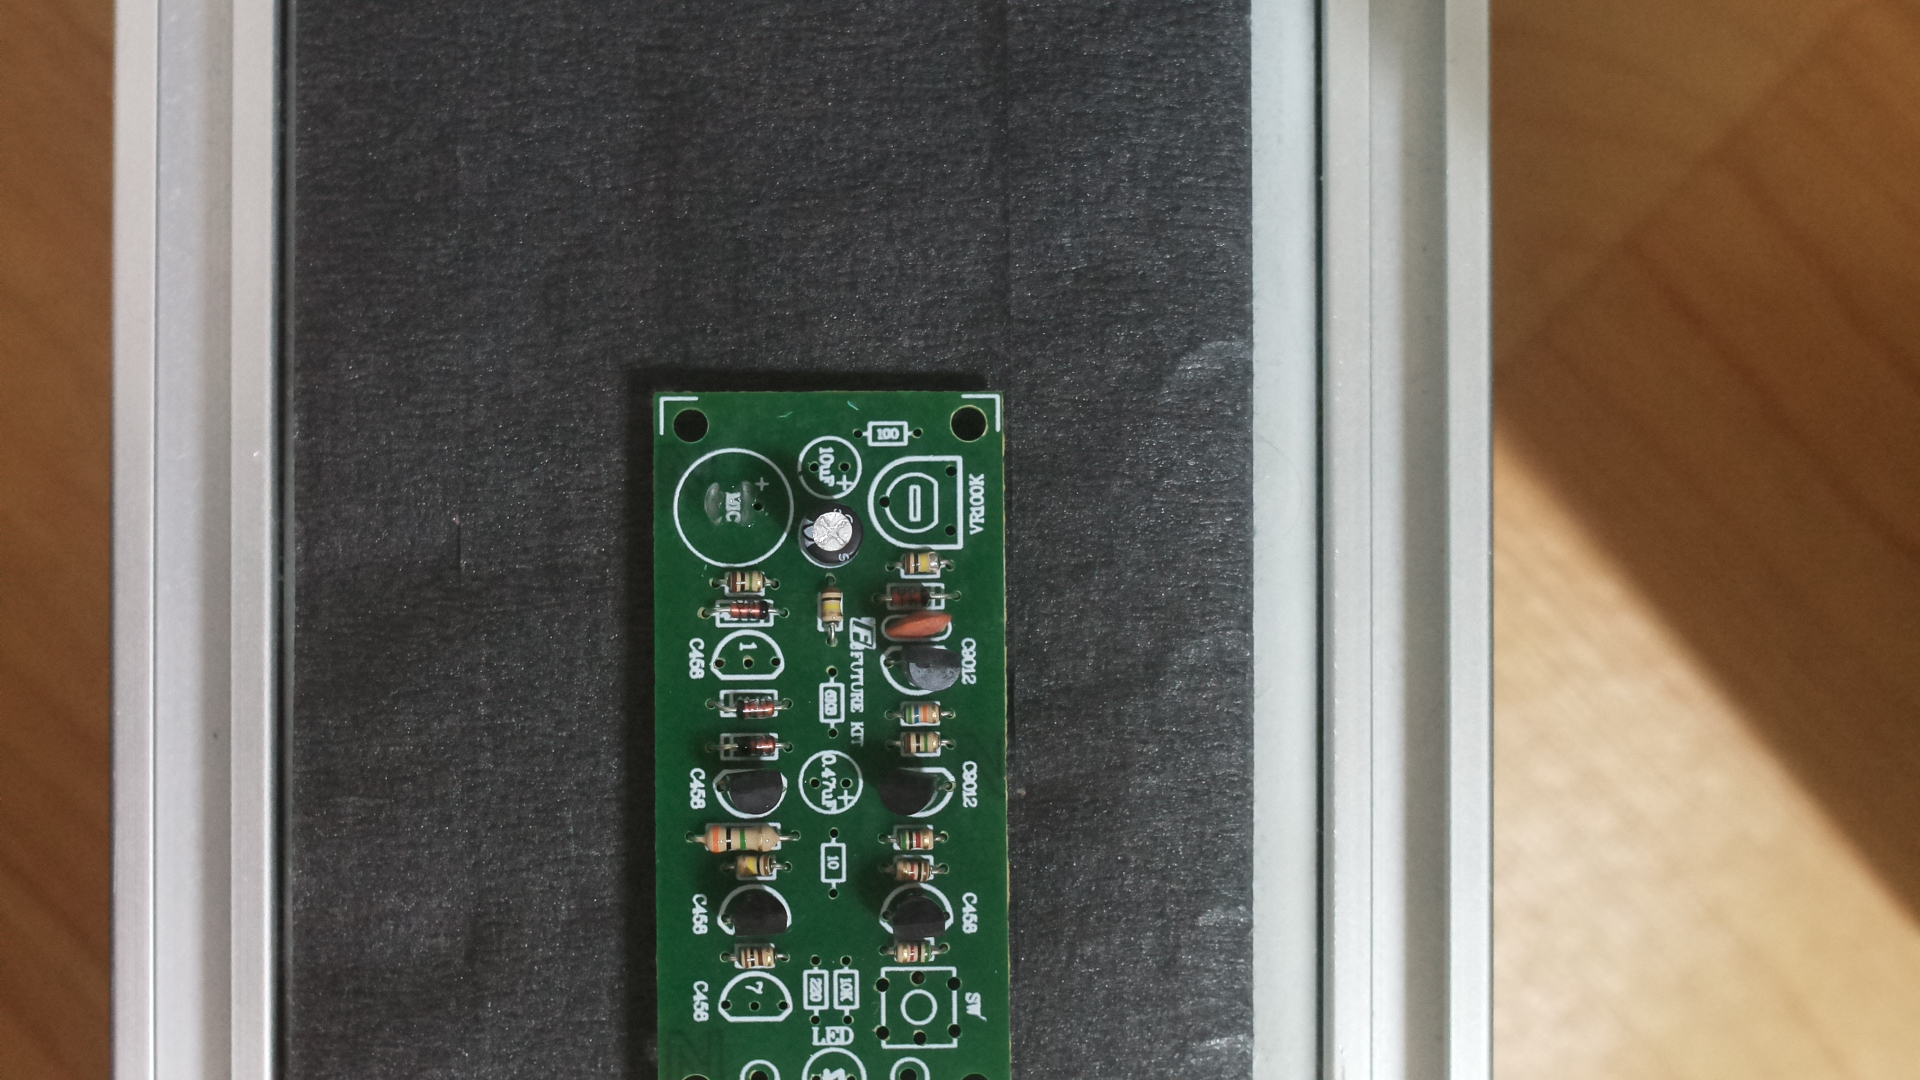A_Missing_part: (641, 378, 1027, 1080)
